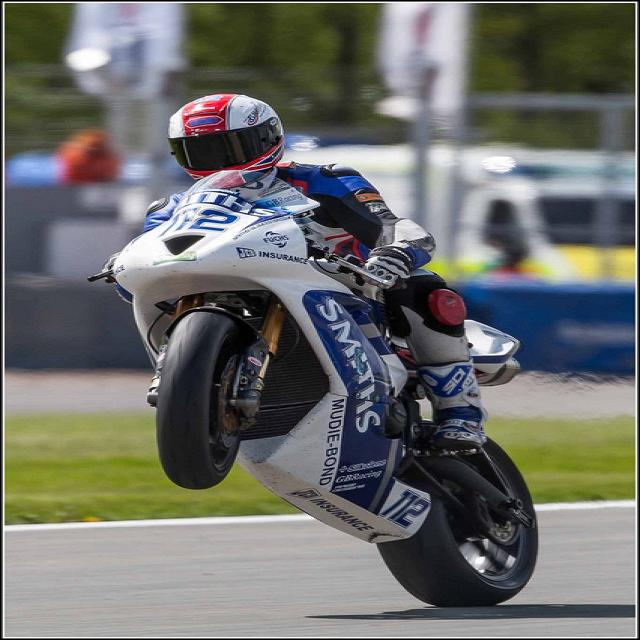motor: (69, 158, 568, 604)
